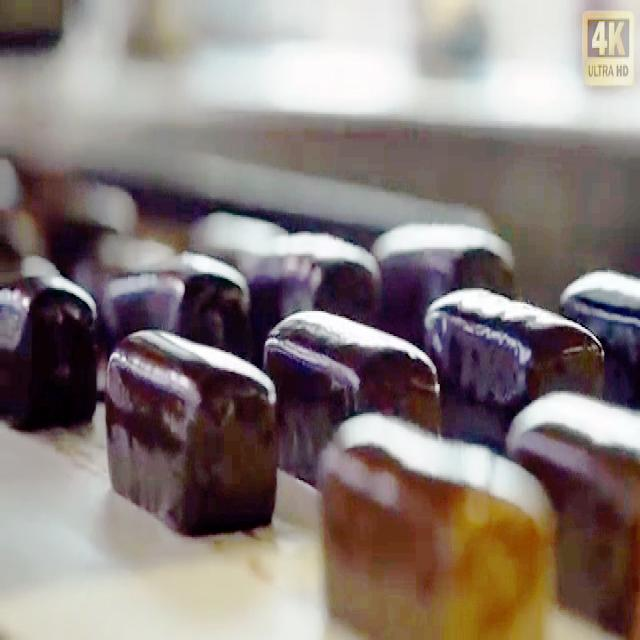Choco: (316, 407, 556, 635), (103, 324, 280, 535), (508, 387, 640, 634), (262, 304, 441, 484), (423, 281, 604, 412), (103, 250, 249, 385), (385, 214, 518, 350), (3, 267, 103, 439), (253, 225, 382, 353), (562, 263, 640, 409)
